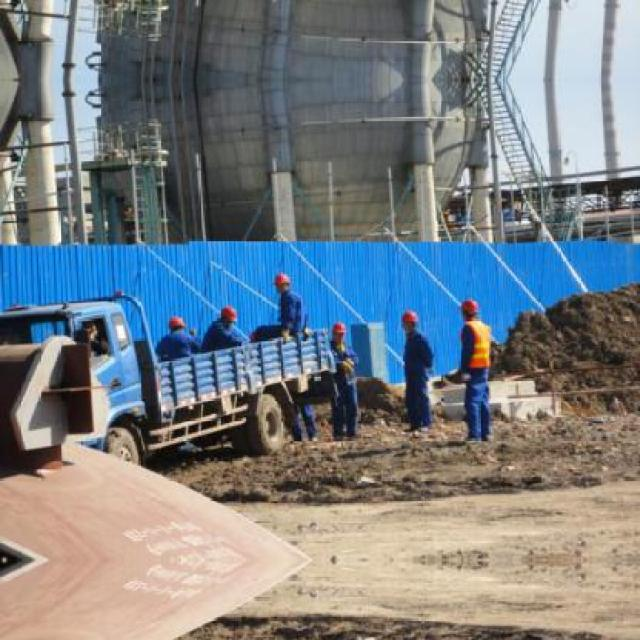helmet: (398, 307, 417, 336), (215, 302, 237, 326), (330, 317, 347, 341), (458, 297, 477, 318), (274, 271, 292, 292), (168, 314, 183, 332)
